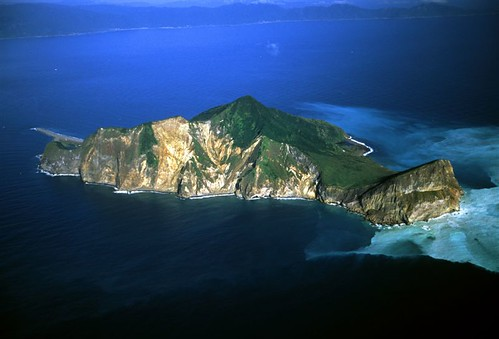turtleIsland: (29, 91, 465, 221)
